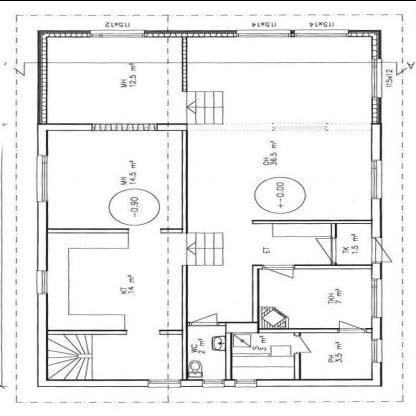door: (370, 233, 398, 265), (182, 311, 225, 329), (315, 232, 338, 264), (262, 260, 298, 278), (292, 329, 316, 355), (336, 318, 371, 334)
window: (233, 27, 355, 40), (33, 149, 53, 206), (368, 58, 389, 100), (86, 26, 147, 38), (367, 158, 383, 202), (370, 276, 384, 318), (34, 268, 52, 297), (145, 376, 183, 388), (367, 337, 383, 365), (232, 374, 260, 390), (201, 376, 227, 389)
